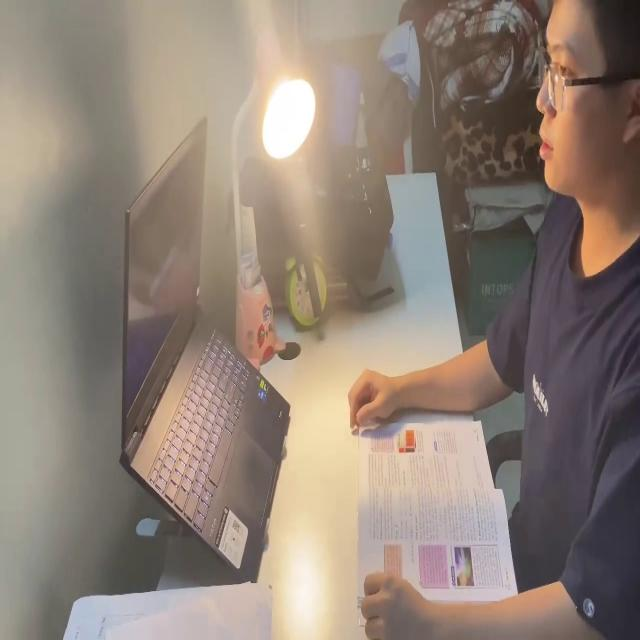book: (358, 388, 524, 640), (61, 573, 273, 640)
laptop: (115, 111, 290, 578)
student: (346, 0, 640, 640)
